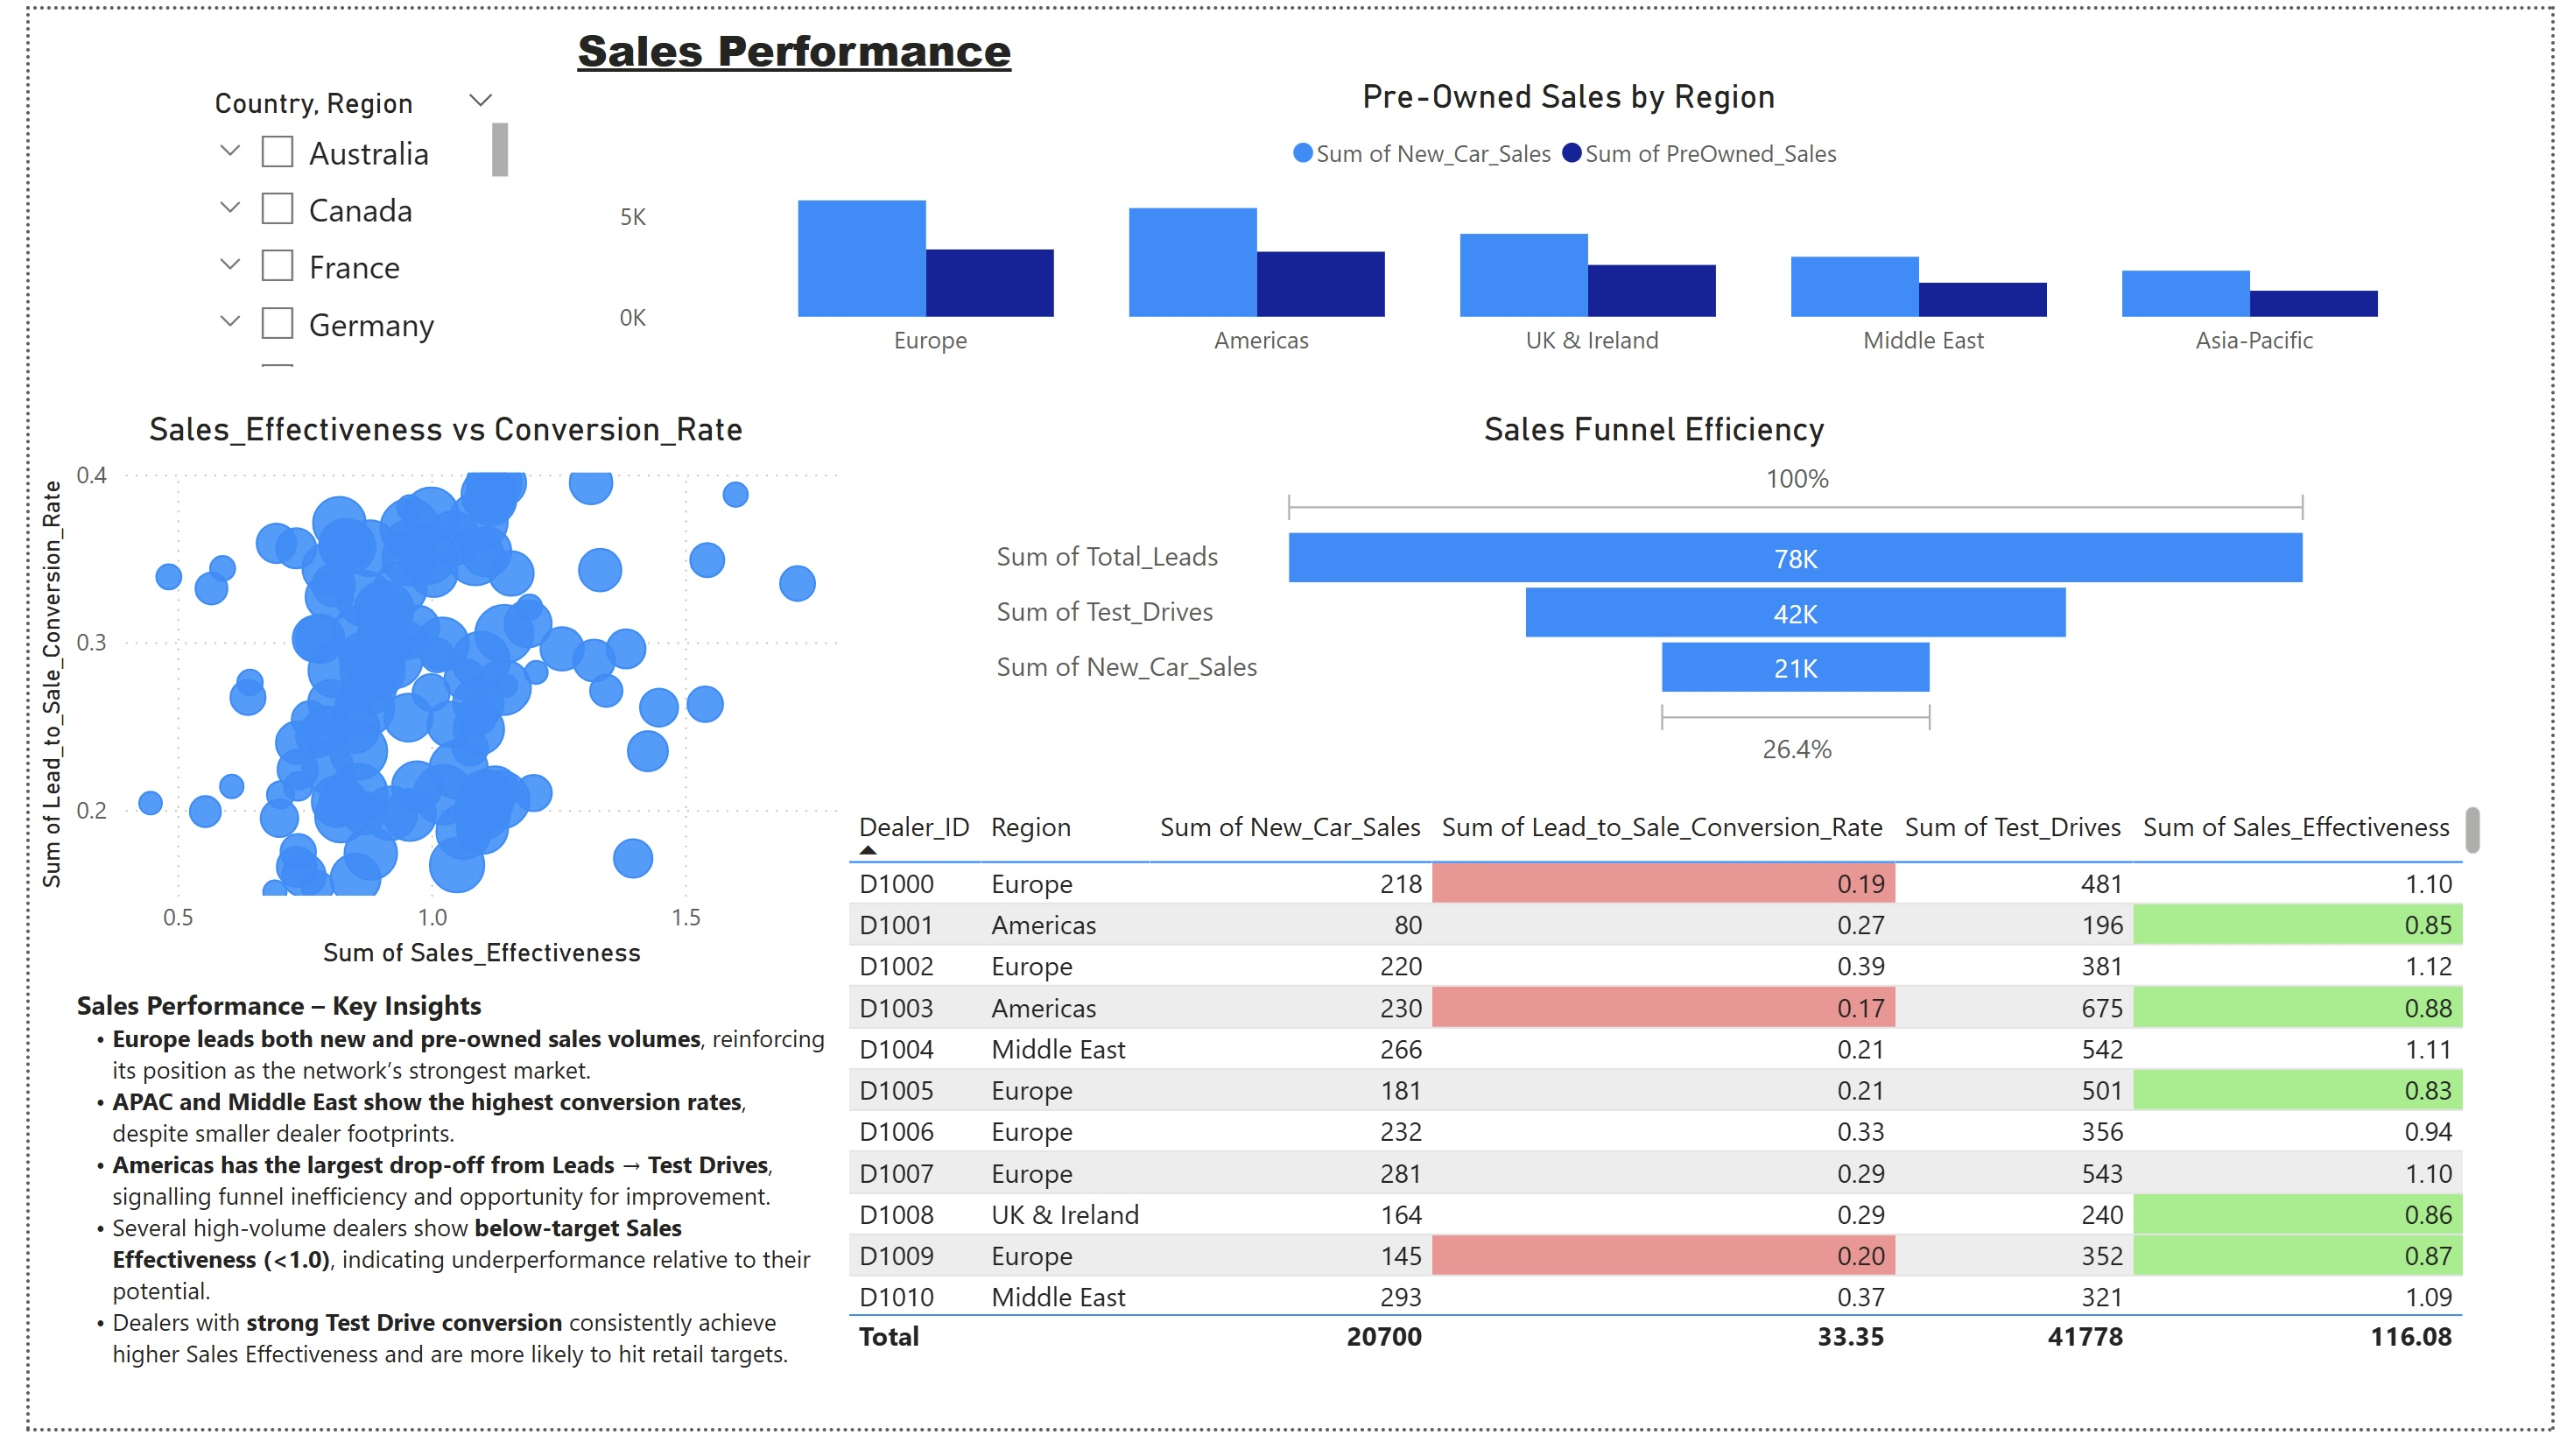

The dashboard page shown, as its layout file describes it:
{"tool":"powerbi","page":{"name":"Sales Performance","canvas":[1280,720],"ordinal":1},"visuals":[{"type":"slicer","fields":{"Values":["dealer_kpis_luxury.Country","dealer_kpis_luxury.Region"]},"box":[81.2,33.8,166.2,152.5],"z":0},{"type":"clusteredColumnChart","title":"Pre-Owned Sales by Region","fields":{"Y":["Sum(dealer_kpis_luxury.New_Car_Sales)","Sum(dealer_kpis_luxury.PreOwned_Sales)"],"Category":["dealer_kpis_luxury.Region"]},"box":[293.8,33.8,975,152.5],"z":1000},{"type":"funnel","title":"Sales Funnel Efficiency","fields":{"Y":["Sum(dealer_kpis_luxury.Total_Leads)","Sum(dealer_kpis_luxury.Test_Drives)","Sum(dealer_kpis_luxury.New_Car_Sales)"]},"box":[485.7,202.9,678.6,187.1],"z":2000},{"type":"scatterChart","title":"Sales_Effectiveness vs Conversion_Rate ","fields":{"X":["Sum(dealer_kpis_luxury.Sales_Effectiveness)"],"Y":["Sum(dealer_kpis_luxury.Lead_to_Sale_Conversion_Rate)"],"Category":["dealer_kpis_luxury.Dealer_ID"],"Size":["Sum(dealer_kpis_luxury.New_Car_Sales)"]},"box":[0,203,423,288],"z":3000},{"type":"tableEx","fields":{"Values":["dealer_kpis_luxury.Dealer_ID","dealer_kpis_luxury.Region","Sum(dealer_kpis_luxury.New_Car_Sales)","Sum(dealer_kpis_luxury.Lead_to_Sale_Conversion_Rate)","Sum(dealer_kpis_luxury.Test_Drives)","Sum(dealer_kpis_luxury.Sales_Effectiveness)"]},"box":[410,399,840,289],"z":4000},{"type":"textbox","box":[19,491,391,229],"z":5000},{"type":"textbox","box":[273,0,300,42],"z":5001}]}

Visuals, with their boxes in screenshot pixels (x1, y1, x2, y2), scaled from the page's 1280x720 canvas onto the 2574x1456 screenshot:
slicer - dealer_kpis_luxury.Country x dealer_kpis_luxury.Region: rect(164, 68, 497, 376)
"Pre-Owned Sales by Region" clusteredColumnChart: rect(591, 68, 2551, 376)
"Sales Funnel Efficiency" funnel: rect(977, 411, 2341, 789)
"Sales_Effectiveness vs Conversion_Rate " scatterChart: rect(0, 411, 851, 993)
tableEx - dealer_kpis_luxury.Dealer_ID x dealer_kpis_luxury.Region: rect(825, 807, 2514, 1391)
textbox: rect(39, 993, 825, 1455)
textbox: rect(549, 0, 1152, 85)
